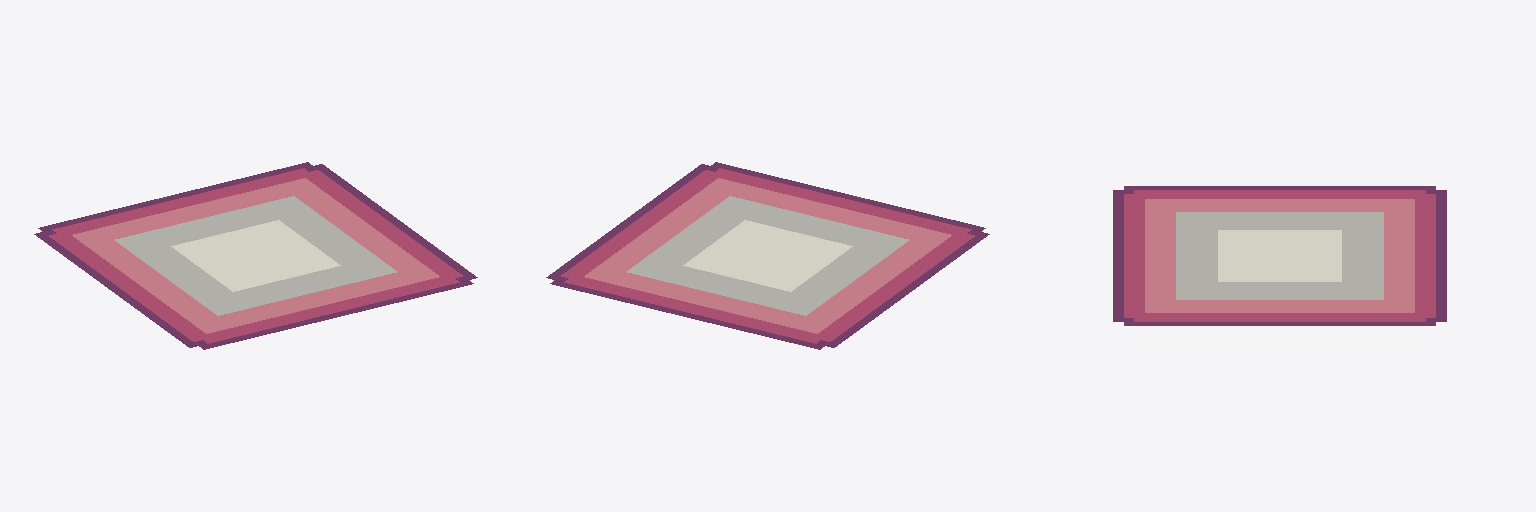
3 renders of one model, left to right at view 1: azimuth 30°, elevation 25°; view 2: azimuth 150°, elevation 25°; view 3: azimuth 270°, elevation 25°, orthographic.
Size of the model in its own units: 1 by 0 by 1.
1 materials, 1 textured.